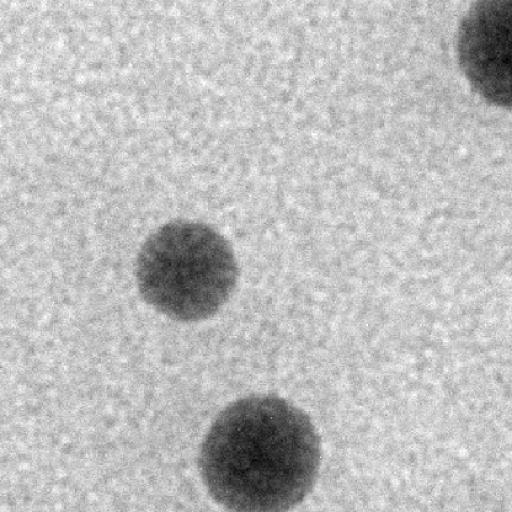Nanoparticles: (195, 393, 329, 512), (136, 218, 246, 326), (456, 0, 512, 112)
